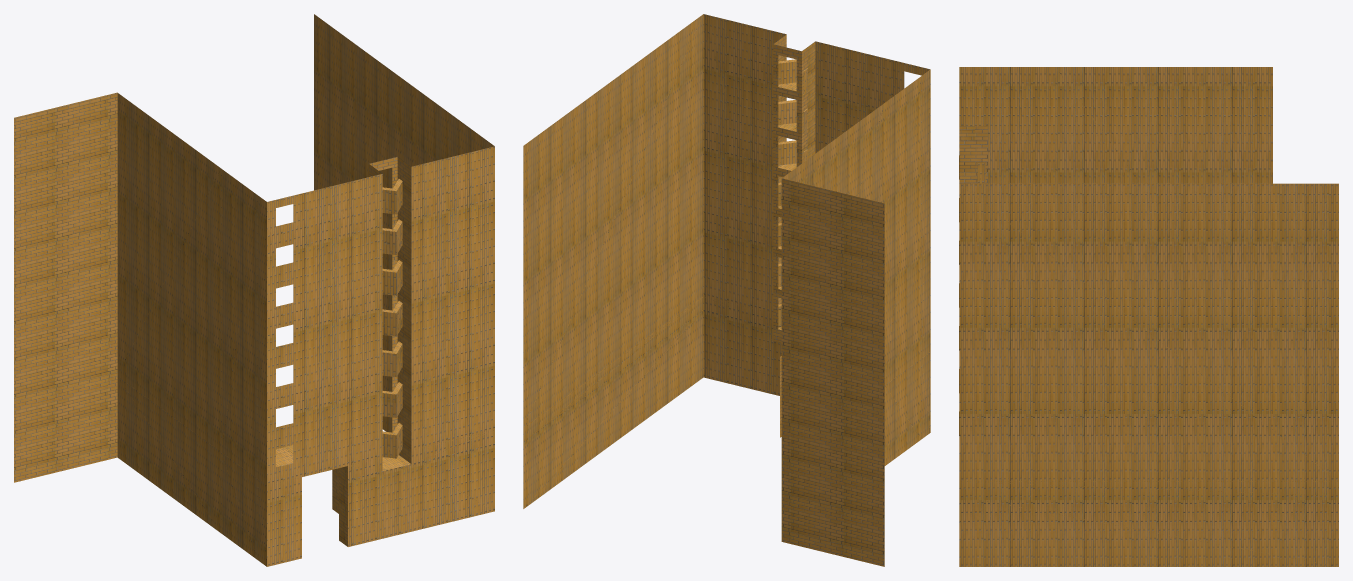
The model's file is oic.fbx.
The picture shows the model from 3 angles, left to right: view 1: azimuth 30°, elevation 25°; view 2: azimuth 150°, elevation 25°; view 3: azimuth 270°, elevation 25°; orthographic projection. The views are drawn at different scales.
Visible parts, largest first — view 1: oic; view 2: oic; view 3: oic.
Part boxes in pixels (x1=…): oic: x1=14, y1=14, x2=494, y2=566; oic: x1=523, y1=14, x2=930, y2=566; oic: x1=959, y1=67, x2=1338, y2=566.
Bounding box in the file's own units: 2562 × 2697 × 2422.
Materials: 4 (4 with a texture image).
